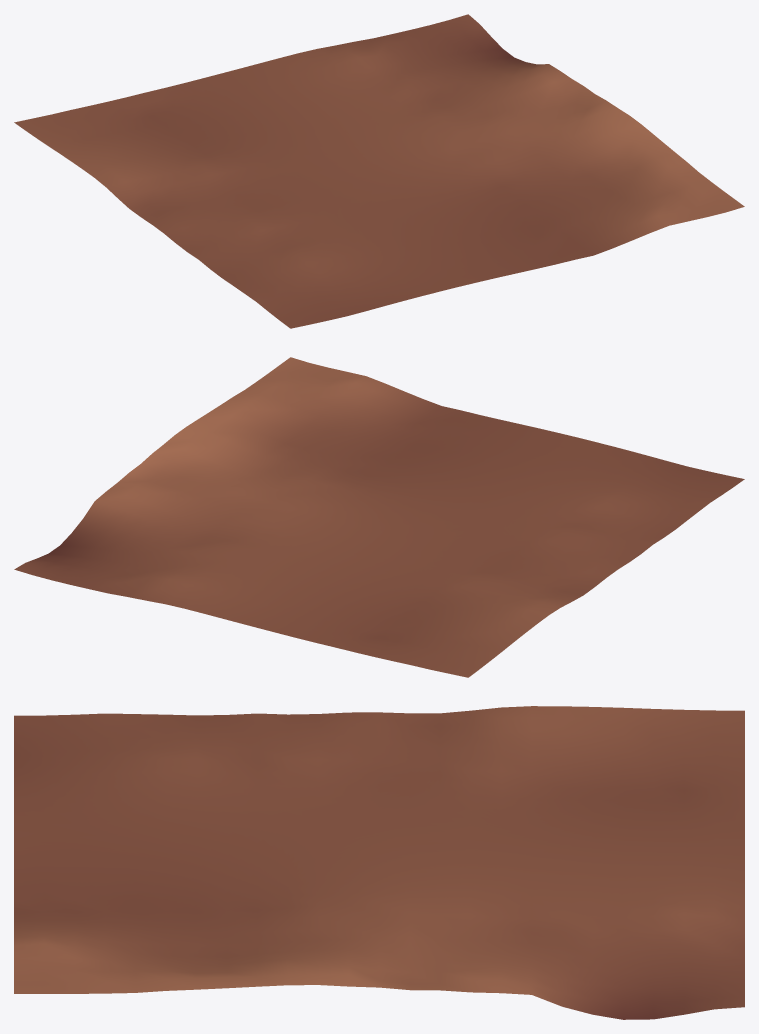
File: jezero-mola.glb
The picture shows the model from 3 angles, top to bottom: view 1: azimuth 30°, elevation 25°; view 2: azimuth 150°, elevation 25°; view 3: azimuth 270°, elevation 25°; orthographic projection. The views are drawn at different scales.
Visible parts, largest first — view 1: Jezero_MOLA; view 2: Jezero_MOLA; view 3: Jezero_MOLA.
Part boxes in pixels (x1,y1,x2,y2): Jezero_MOLA: (14,14,744,328); Jezero_MOLA: (14,357,744,677); Jezero_MOLA: (14,706,744,1019).
Size of the model in its own units: 10541 by 584 by 11114.
